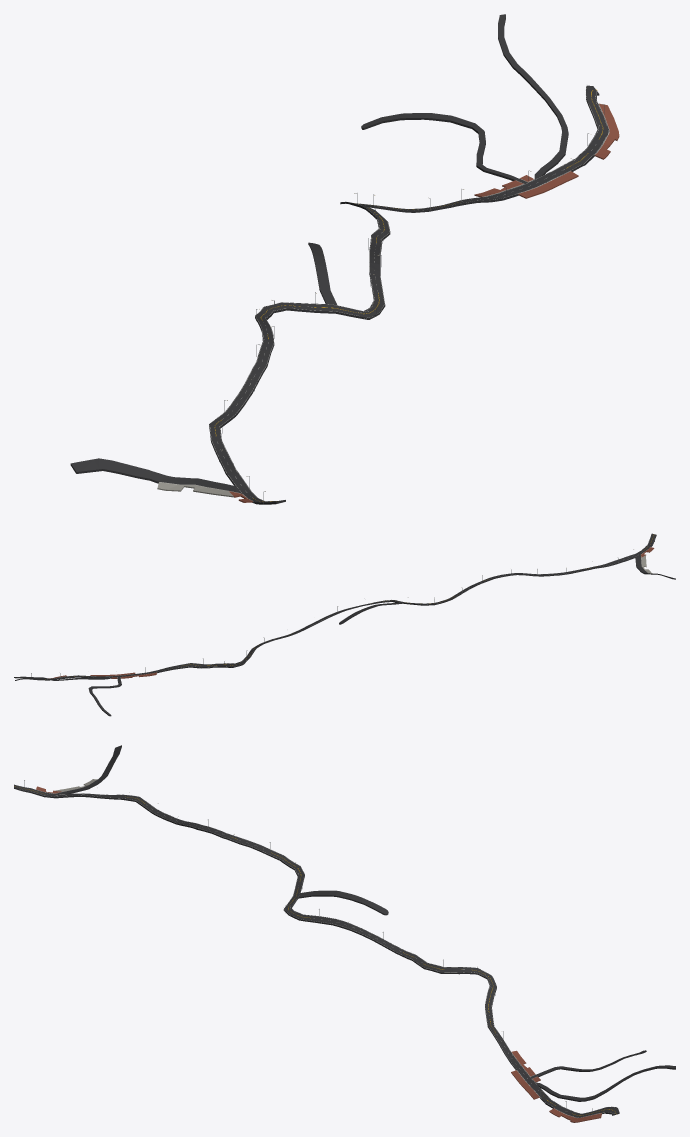
The picture shows the model from 3 angles, top to bottom: view 1: azimuth 30°, elevation 25°; view 2: azimuth 150°, elevation 25°; view 3: azimuth 270°, elevation 25°; orthographic projection. The views are drawn at different scales.
Size of the model in its own units: 588 by 102 by 583.
